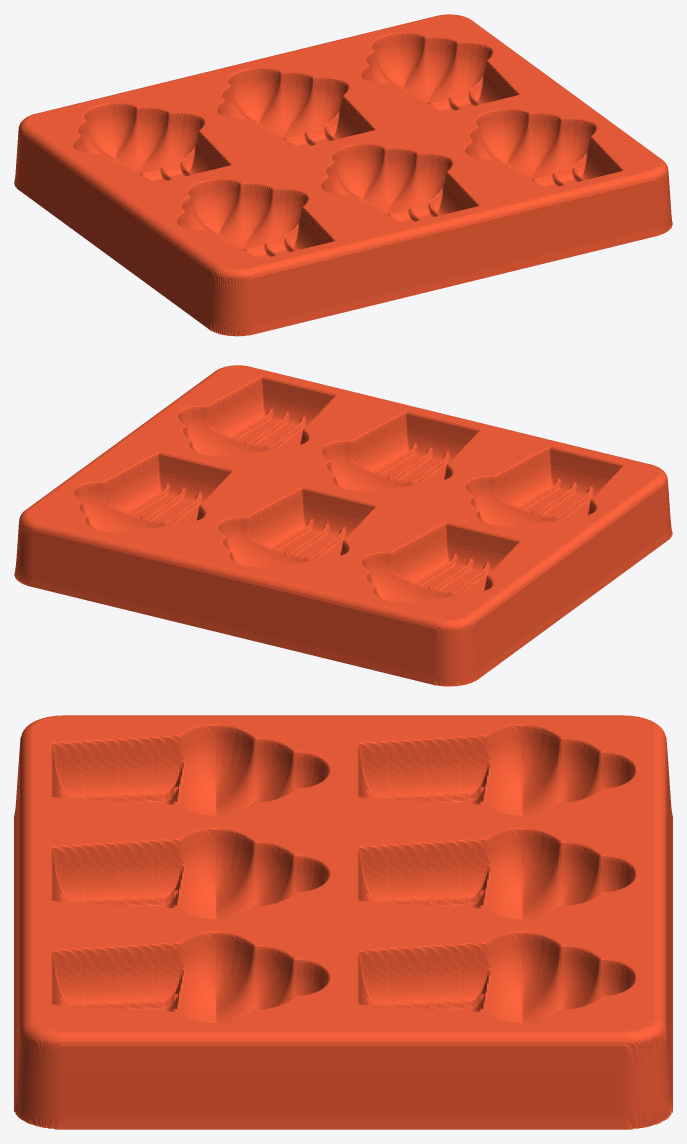
Rendered from mold.glb.
3 renders of one model, top to bottom at view 1: azimuth 30°, elevation 25°; view 2: azimuth 150°, elevation 25°; view 3: azimuth 270°, elevation 25°, orthographic. The views are drawn at different scales.
Parts seen in each view (by area): view 1: geometry_0; view 2: geometry_0; view 3: geometry_0.
Part boxes in pixels (box(x1,y1,x2,y2)): geometry_0: box(14, 14, 672, 336); geometry_0: box(14, 365, 672, 686); geometry_0: box(14, 715, 672, 1129).
Size of the model in its own units: 0.1451 by 0.0185 by 0.1222.
